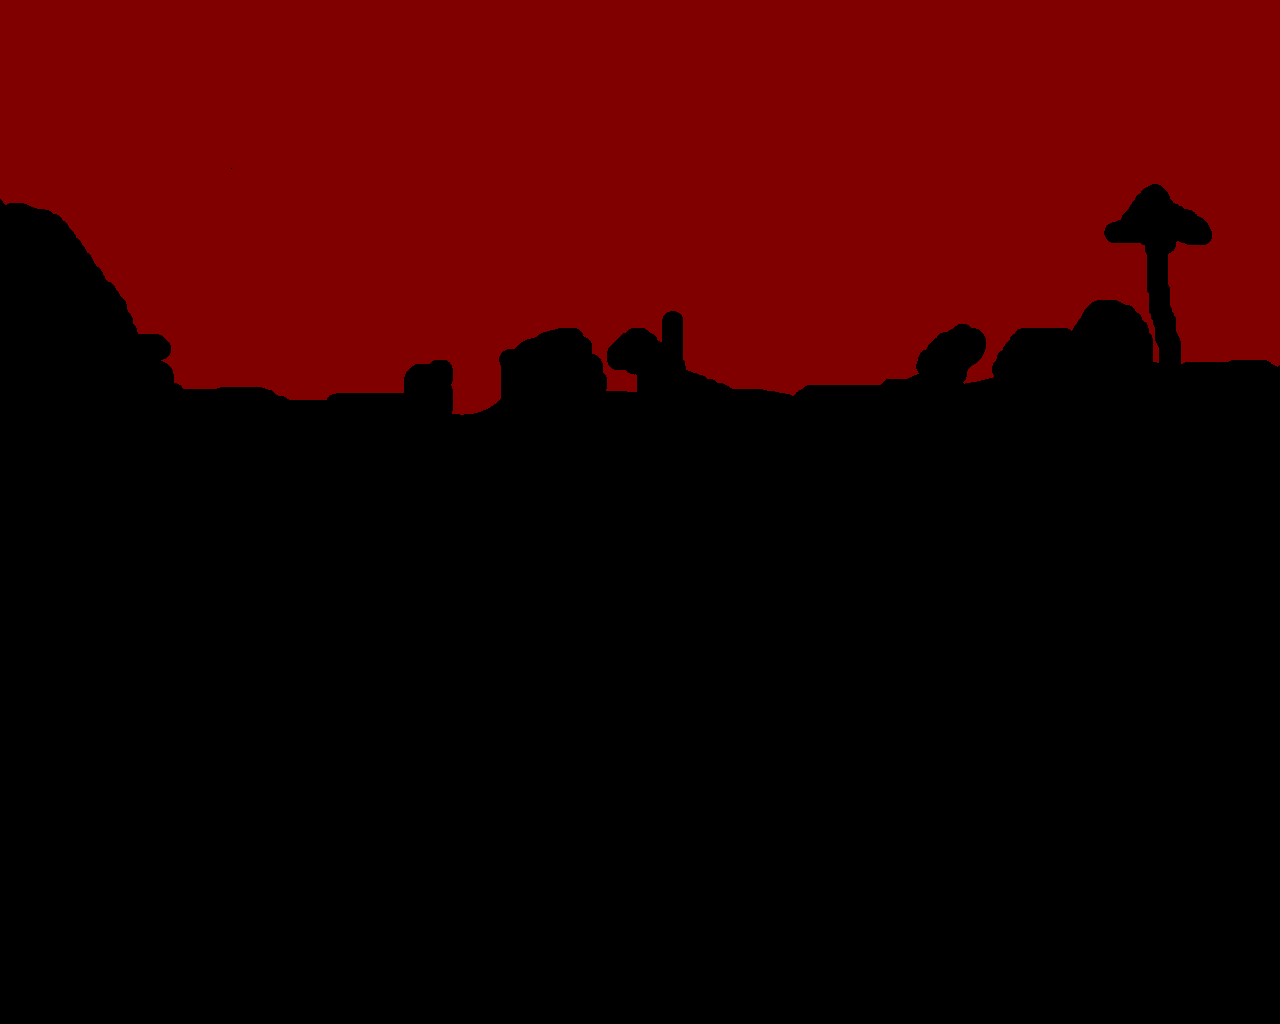Sky: (1, 1, 1279, 415)
